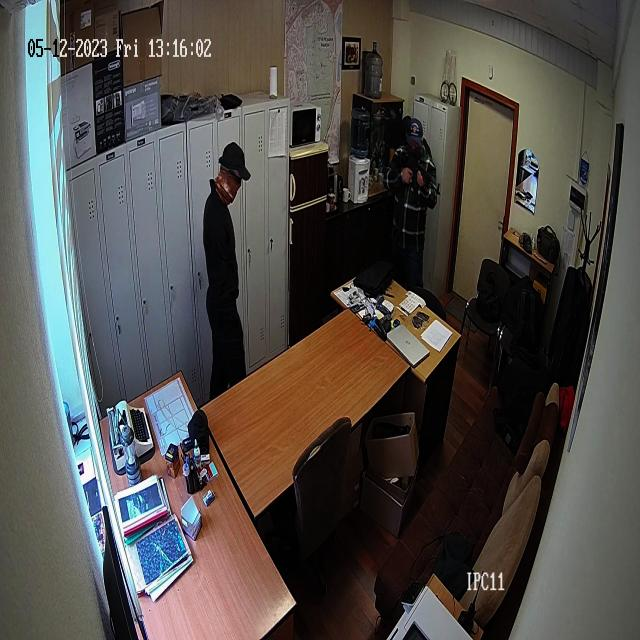gun: (201, 139, 251, 372), (387, 118, 442, 275), (393, 146, 438, 201)
